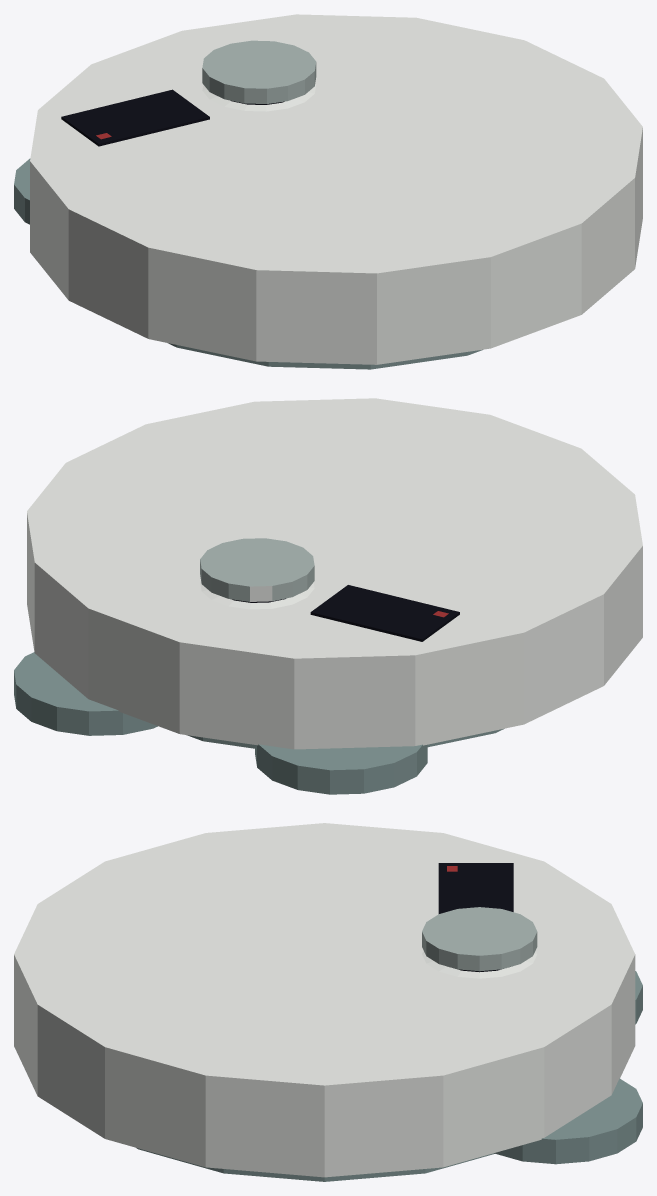
File: bot.dae
The picture shows the model from 3 angles, top to bottom: view 1: azimuth 30°, elevation 25°; view 2: azimuth 150°, elevation 25°; view 3: azimuth 270°, elevation 25°; orthographic projection.
Parts seen in each view (by area): view 1: Vacuum Bot; view 2: Vacuum Bot; view 3: Vacuum Bot.
Boxes of the visible parts, box(x1,y1,x2,y2) form: Vacuum Bot: box(14, 14, 642, 369); Vacuum Bot: box(14, 398, 642, 794); Vacuum Bot: box(14, 823, 642, 1181).
Size of the model in its own units: 2 by 2.02 by 0.4942.
1 material, 1 textured.
